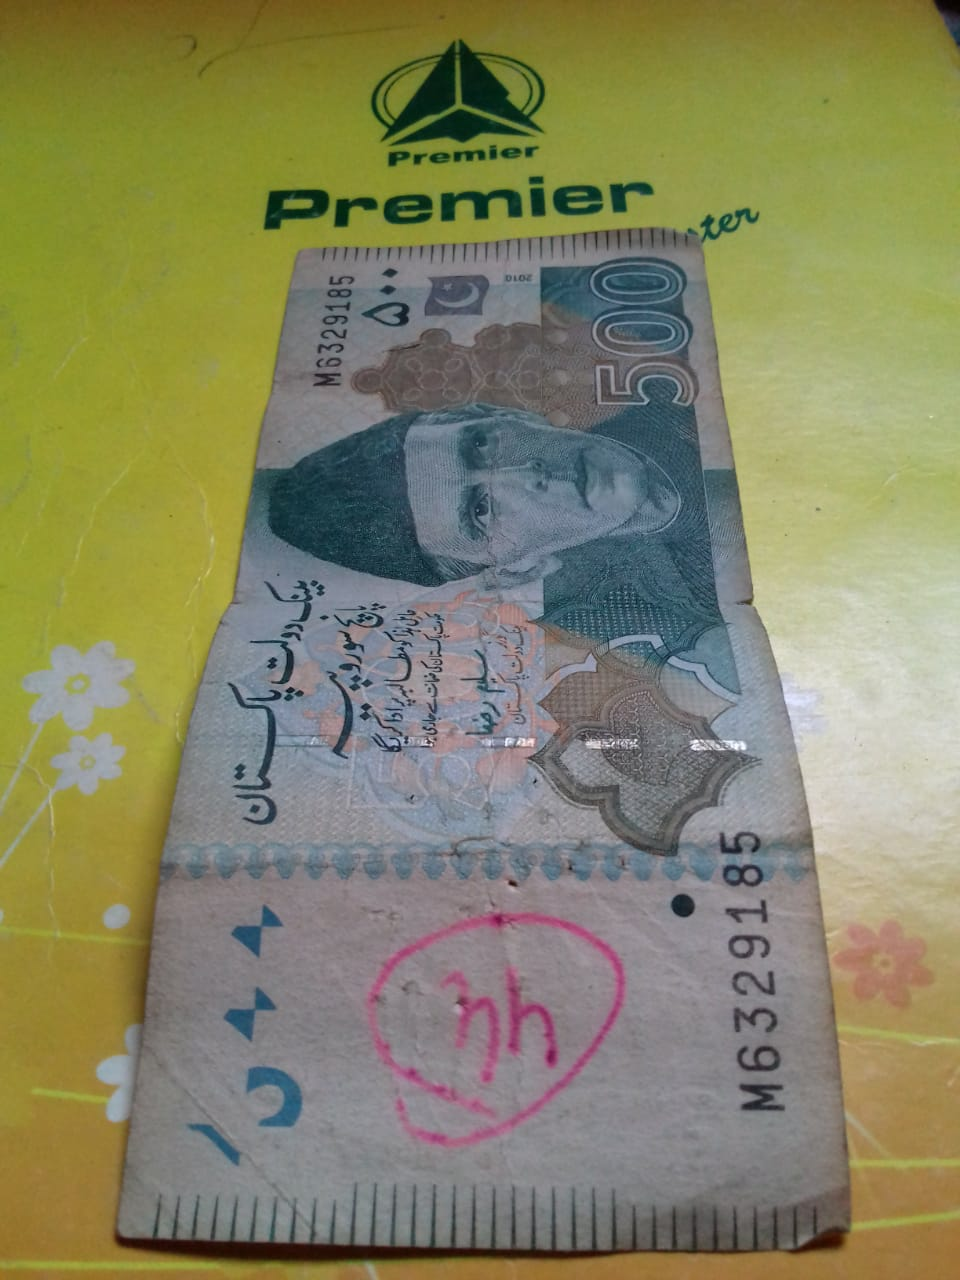500 rupee: (131, 231, 848, 1280)
